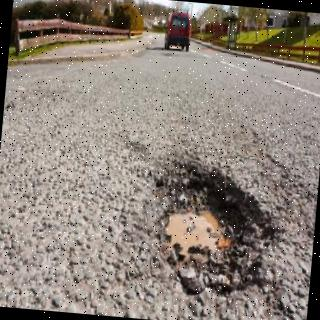pothole: (150, 162, 274, 295)
